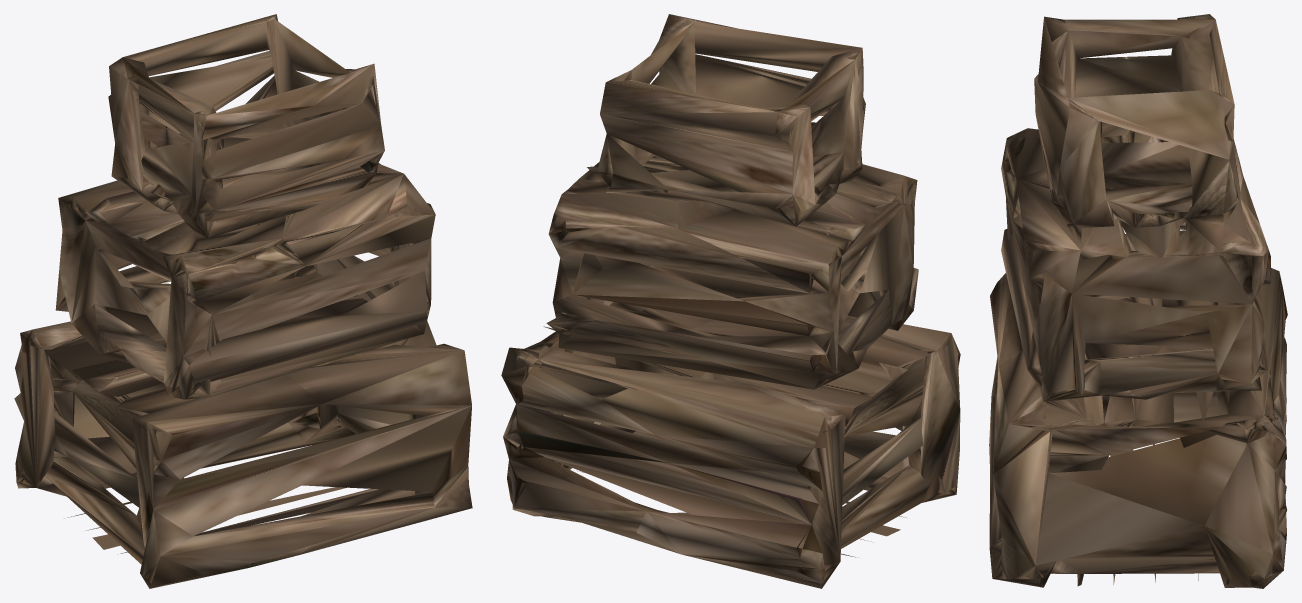
File: crates.glb
3 views of the same model, side by side, from view 1: azimuth 30°, elevation 25°; view 2: azimuth 150°, elevation 25°; view 3: azimuth 270°, elevation 25° (orthographic). The views are drawn at different scales.
Visible parts, largest first — view 1: Mesh_0; view 2: Mesh_0; view 3: Mesh_0.
Part boxes in pixels (x1=…): Mesh_0: x1=14, y1=14, x2=472, y2=588; Mesh_0: x1=501, y1=14, x2=960, y2=588; Mesh_0: x1=989, y1=14, x2=1287, y2=588.
Bounding box in the file's own units: 0.8364 × 1.1 × 0.6534.
Materials: 1 (1 with a texture image).
